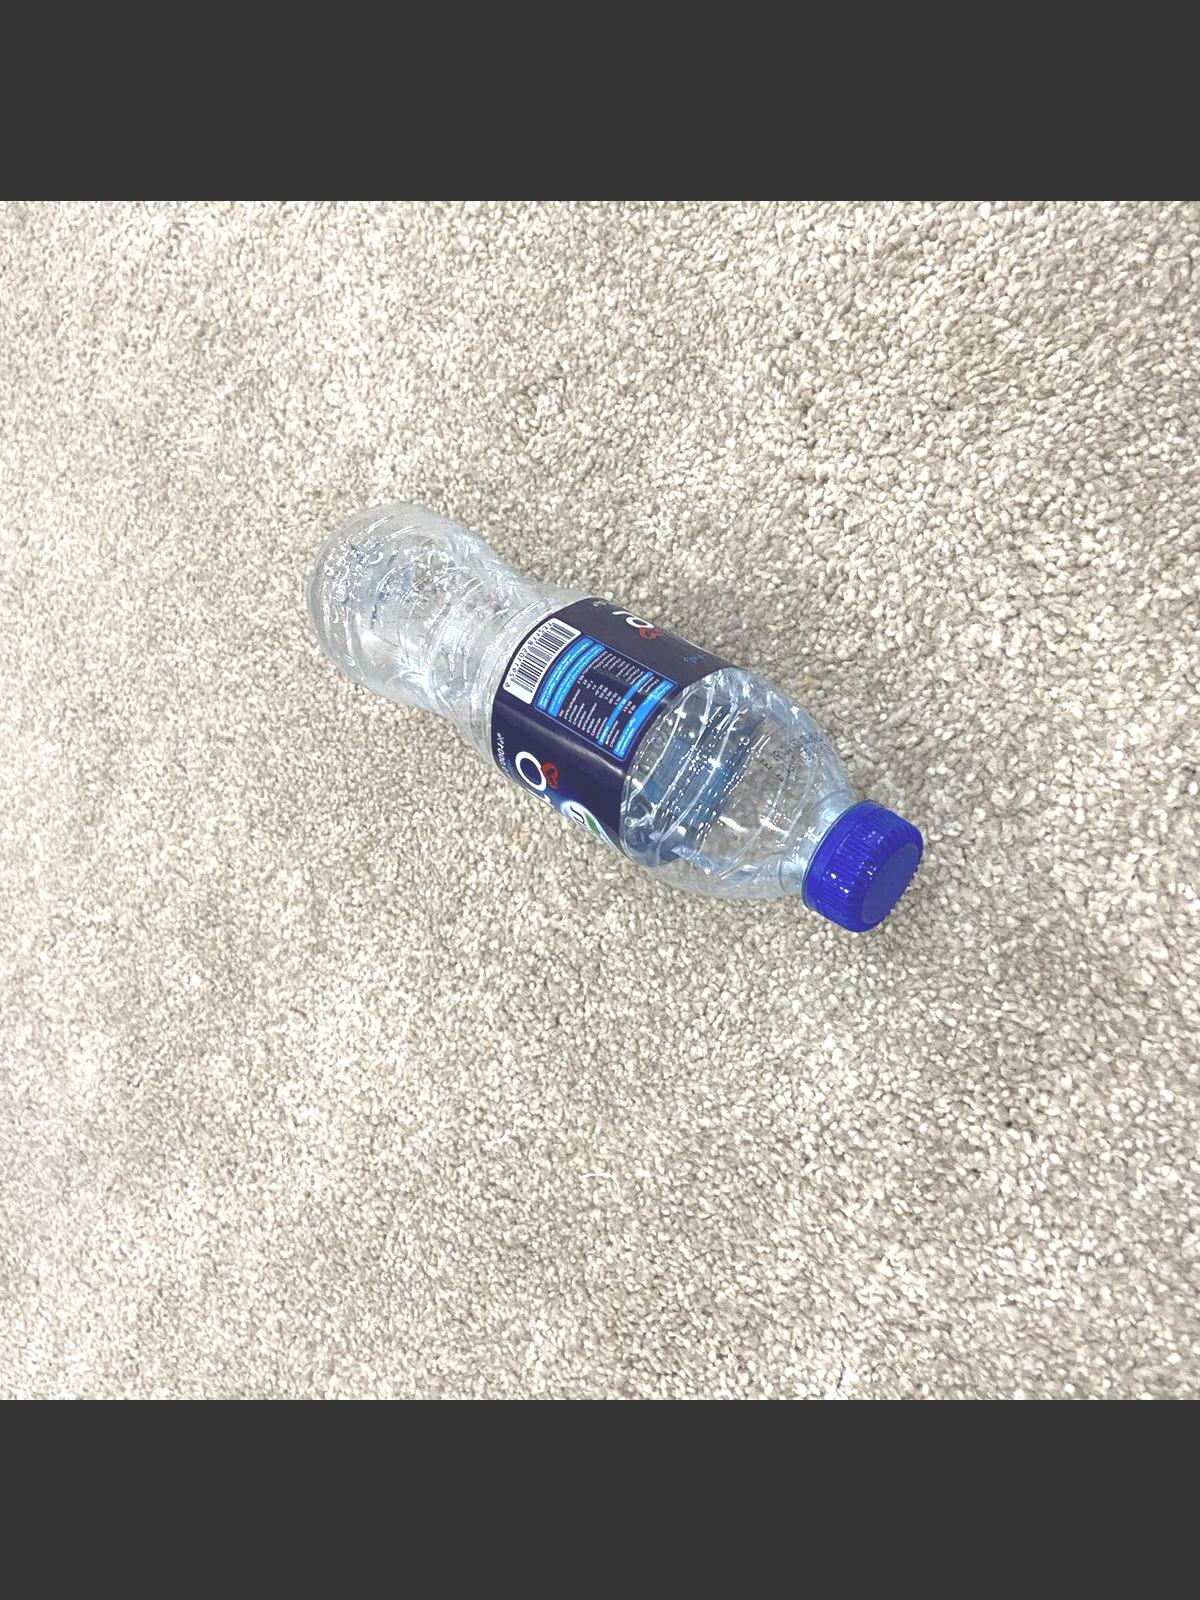bottle: (292, 496, 930, 937)
